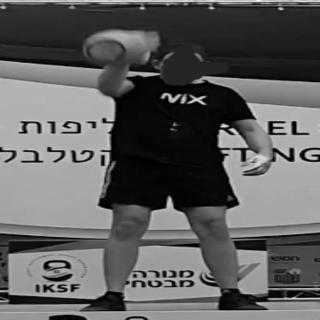kettlebell: (79, 26, 158, 70)
